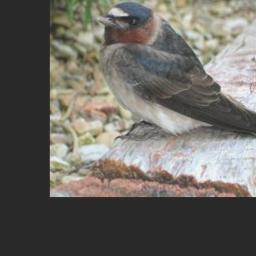Swallow: (92, 0, 256, 153)
